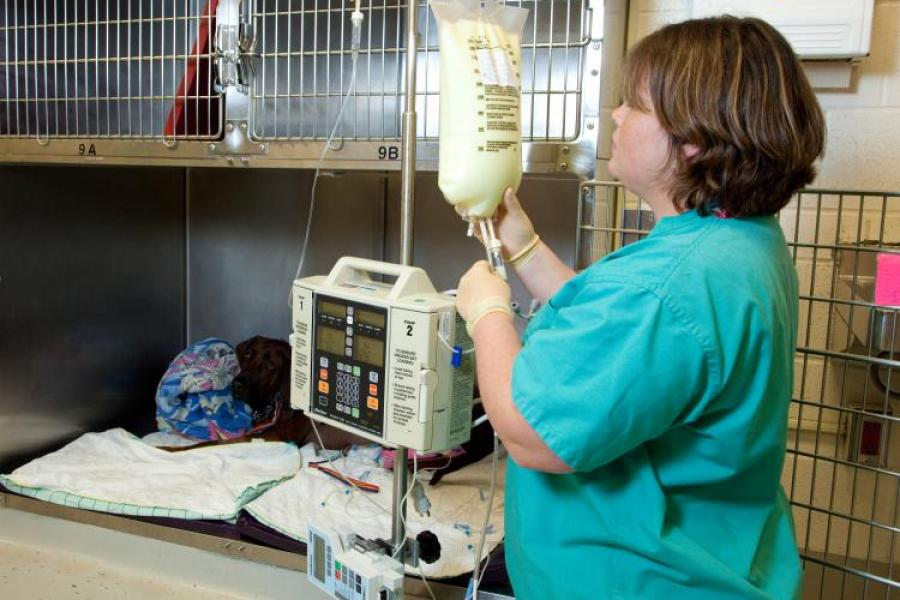iv_pole: (368, 2, 459, 544)
staff: (458, 1, 836, 600)
